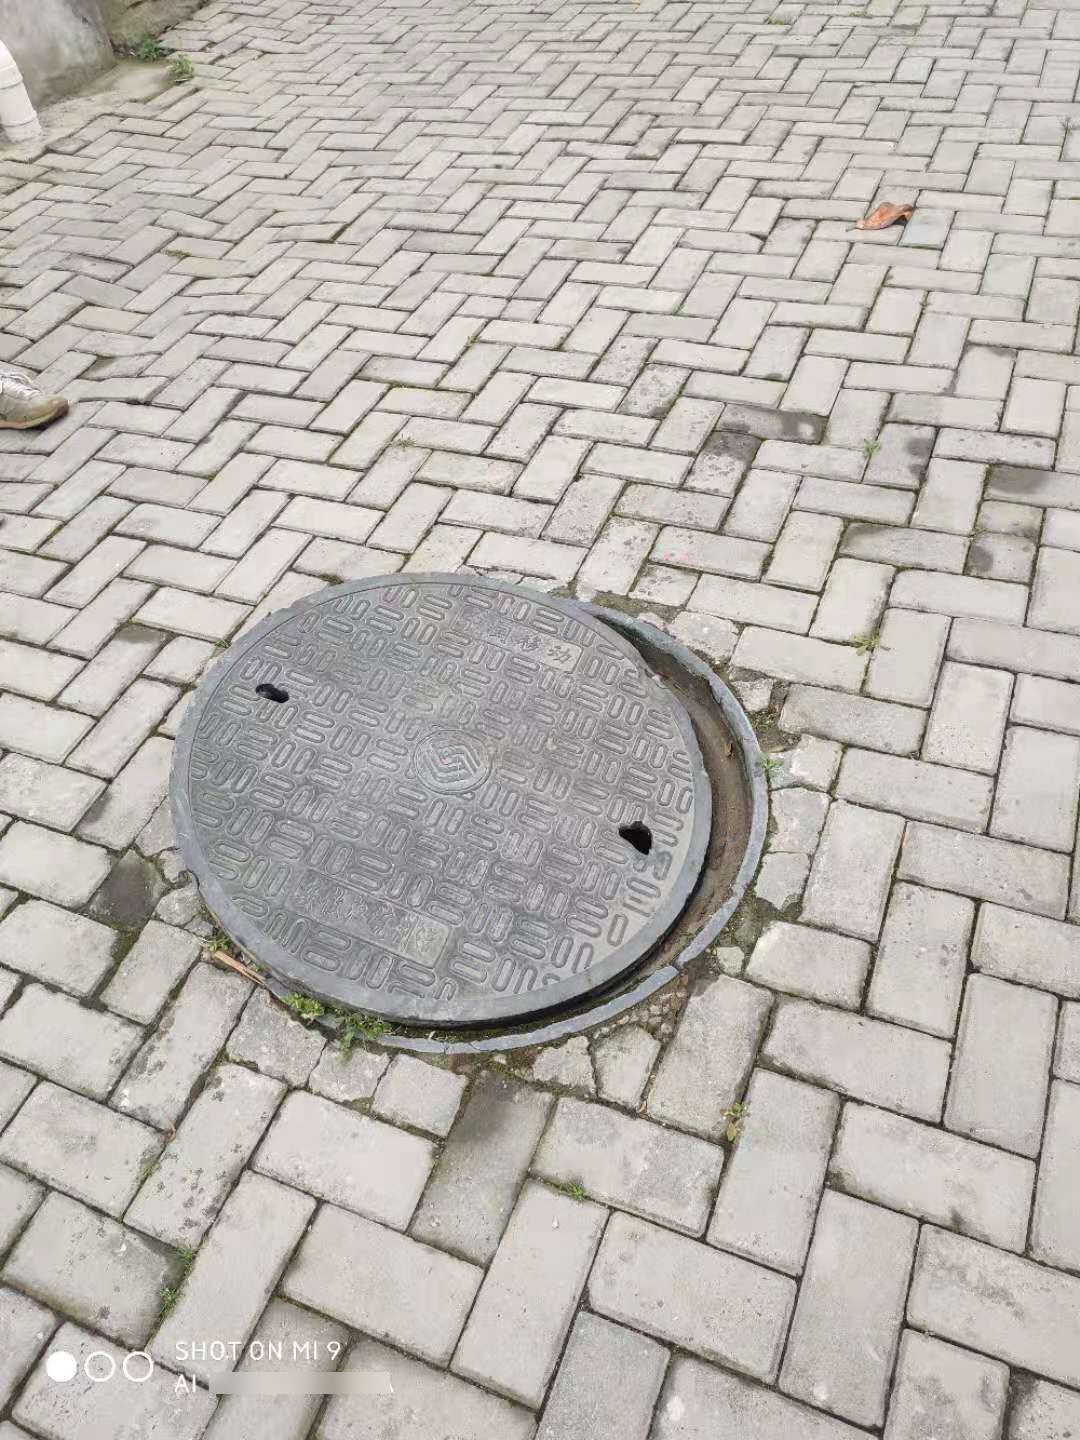uncovered: (170, 571, 770, 1053)
